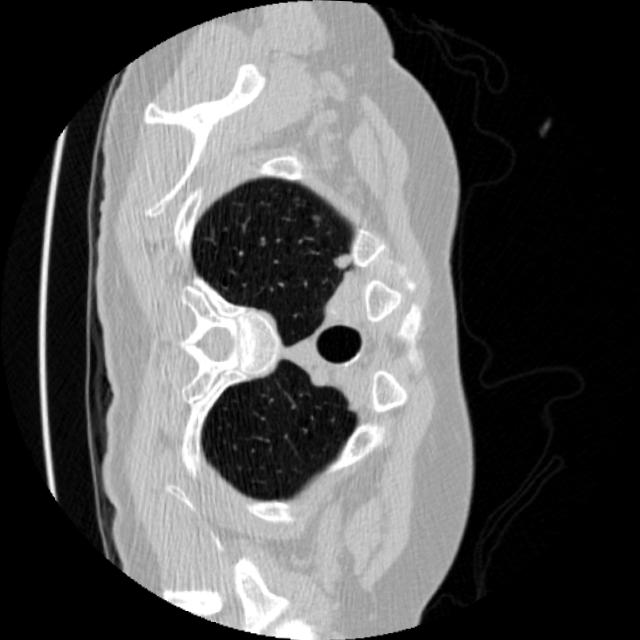nodule: (324, 240, 360, 276)
